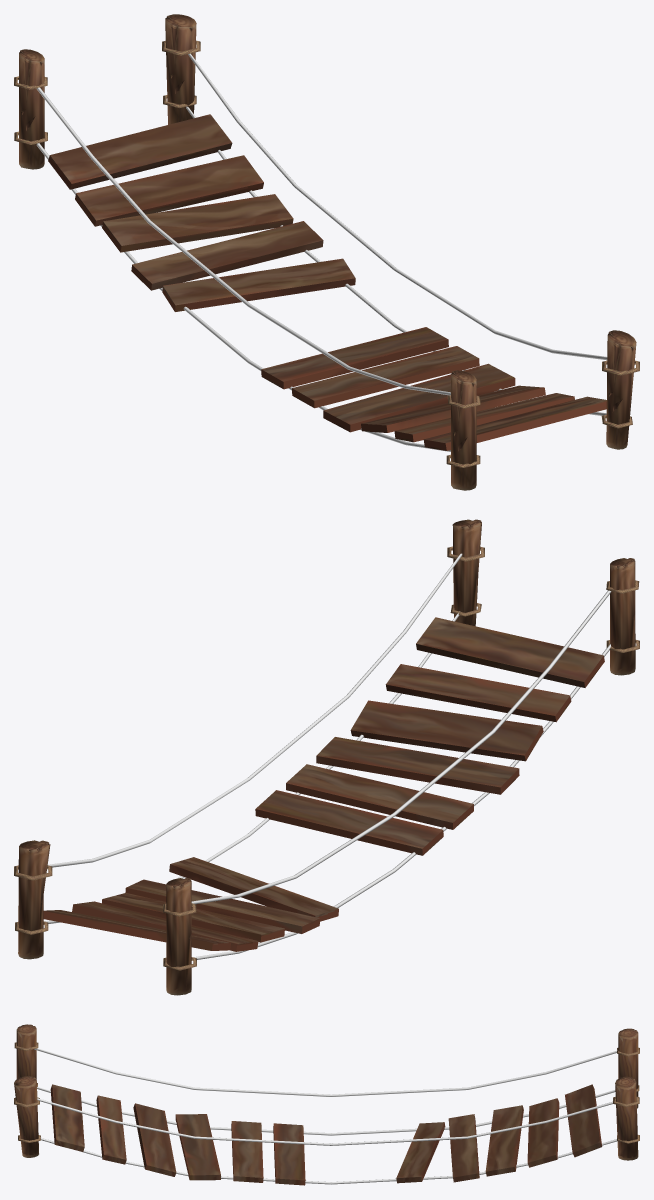
File: SM_Bridge_02.fbx
3 renders of one model, top to bottom at view 1: azimuth 30°, elevation 25°; view 2: azimuth 150°, elevation 25°; view 3: azimuth 270°, elevation 25°, orthographic. The views are drawn at different scales.
Visible parts, largest first — view 1: Planks, Planks.010, Planks.009, Ropes, poles normal.001, poles normal, Planks.008, Planks.007, Planks.006, Planks.005, Planks.004, Planks.001 (+3 smaller); view 2: Planks.003, Planks.001, Ropes, poles normal, Planks.004, poles normal.001, Planks.005, Planks.006, Planks.002, Planks.007, Planks.008, Planks.009 (+3 smaller); view 3: Ropes, poles normal.001, Planks.004, poles normal, Planks.003, Planks.009, Planks, Planks.010, Planks.006, Planks.005, Planks.001, Planks.008 (+3 smaller).
Boxes of the visible parts, x1,y1,x2,y2 form: Planks: (48, 114, 232, 189); Planks.010: (75, 155, 263, 226); Planks.009: (102, 194, 293, 252); Ropes: (36, 53, 607, 451); poles normal.001: (165, 14, 636, 449); poles normal: (19, 49, 476, 490); Planks.008: (131, 221, 323, 290); Planks.007: (162, 258, 355, 311); Planks.006: (261, 327, 448, 389); Planks.005: (292, 346, 479, 408); Planks.004: (323, 363, 515, 432); Planks.001: (423, 396, 606, 450); Planks.003: (350, 700, 543, 761); Planks.001: (416, 617, 604, 687); Ropes: (44, 553, 611, 959); poles normal: (166, 558, 635, 995); Planks.004: (316, 737, 519, 794); poles normal.001: (18, 519, 481, 959); Planks.005: (286, 764, 473, 829); Planks.006: (255, 790, 443, 855); Planks.002: (385, 664, 571, 722); Planks.007: (169, 857, 338, 921); Planks.008: (125, 879, 320, 933); Planks.009: (102, 893, 284, 942); Ropes: (34, 1048, 617, 1184); poles normal.001: (14, 1076, 638, 1160); Planks.004: (175, 1114, 220, 1180); poles normal: (16, 1024, 638, 1108); Planks.003: (133, 1103, 176, 1176); Planks.009: (485, 1105, 523, 1176); Planks: (565, 1084, 602, 1157); Planks.010: (527, 1098, 559, 1167); Planks.006: (273, 1123, 305, 1185); Planks.005: (231, 1121, 263, 1182); Planks.001: (50, 1084, 84, 1151); Planks.008: (448, 1114, 479, 1182).
Bounding box in the file's own units: 232 × 178 × 951.
